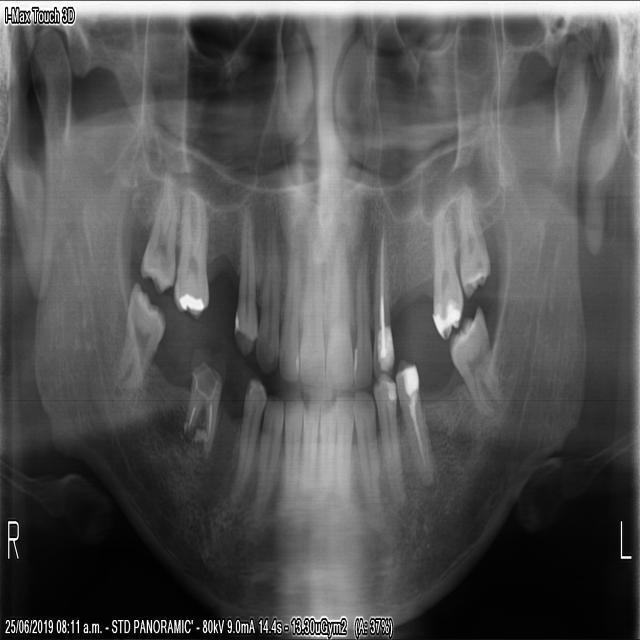LCD: (352, 386, 380, 496)
LCU: (370, 224, 394, 379)
LID: (333, 390, 353, 497), (315, 395, 336, 490)
LIU: (323, 237, 352, 389), (351, 243, 372, 388)
LMD: (442, 297, 508, 422)
LMU: (428, 196, 465, 339), (456, 187, 491, 298)
LPMD: (394, 348, 437, 500), (370, 368, 405, 497)
RCD: (255, 394, 284, 510)
RID: (281, 395, 302, 489), (300, 398, 321, 487)
RIU: (296, 227, 324, 390), (277, 232, 302, 386)
RMD: (116, 274, 167, 384), (181, 354, 221, 453)
RMU: (170, 186, 212, 320), (136, 175, 179, 291)
RPMD: (231, 370, 267, 480)
RPMU: (255, 224, 280, 375), (232, 216, 257, 359)
